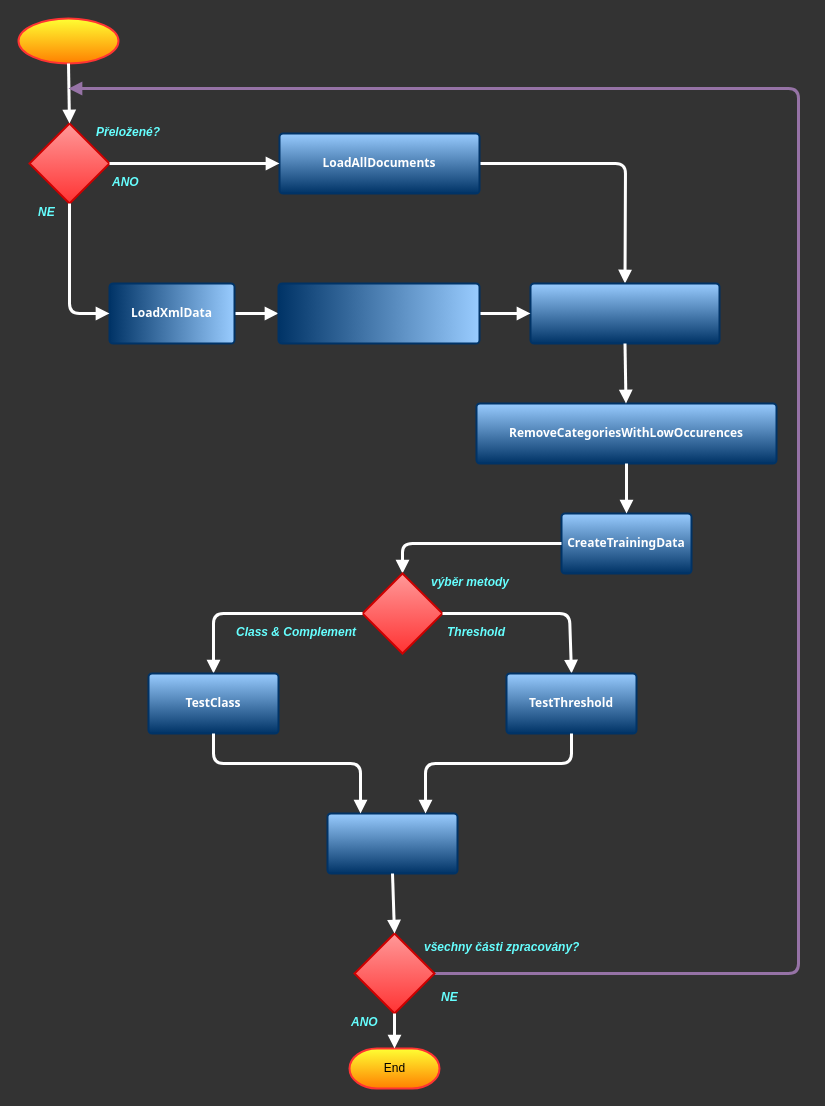
The diagram is 825 pixels wide and 1106 high, and some of its shapes have lost their labels. Here are the shapes that lost their labels. From the top down, the centre of each, then its label:
At [68,40]: "Run".
At [378,313]: "LoadTranslatedDocuments".
At [624,313]: "CategoriesPreparation".
At [392,843]: "WriteResults".
